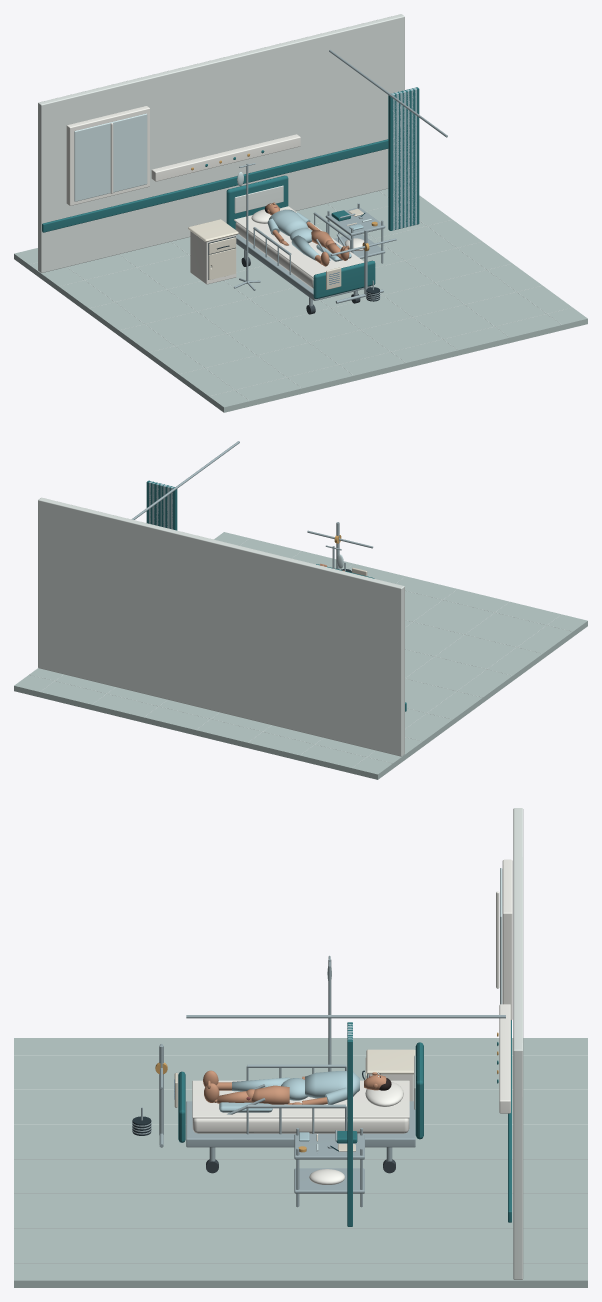
File: Ward.glb
3 renders of one model, top to bottom at view 1: azimuth 30°, elevation 25°; view 2: azimuth 150°, elevation 25°; view 3: azimuth 270°, elevation 25°, orthographic. The views are drawn at different scales.
Parts seen in each view (by area): view 1: Hospital floor, Head wall, Window glass, Wall handrail, Medical services rail, Window frame, Fitted sheet, Footboard, Headboard, Bedside cabinet, Bed chassis, Mattress (+6 smaller); view 2: Head wall, Hospital floor; view 3: Hospital floor, Head wall, Fitted sheet, Mattress, Bed chassis, Window frame, Trolley top, Medical services rail, Privacy curtain rail, Cabinet top, Trolley lower, Curtain pleat.014 (+4 smaller).
Boxes of the visible parts, bbox=[...] form: Hospital floor: bbox=[14, 188, 587, 412]; Head wall: bbox=[38, 14, 404, 272]; Window glass: bbox=[74, 113, 147, 201]; Wall handrail: bbox=[42, 139, 388, 232]; Medical services rail: bbox=[151, 134, 300, 181]; Window frame: bbox=[66, 106, 149, 205]; Fitted sheet: bbox=[234, 206, 364, 278]; Footboard: bbox=[313, 260, 375, 298]; Headboard: bbox=[226, 175, 288, 229]; Bedside cabinet: bbox=[190, 231, 236, 284]; Bed chassis: bbox=[236, 234, 371, 300]; Mattress: bbox=[235, 222, 313, 288]; Head wall: bbox=[38, 497, 404, 756]; Hospital floor: bbox=[14, 532, 587, 779]; Hospital floor: bbox=[14, 1038, 587, 1287]; Head wall: bbox=[513, 808, 523, 1279]; Fitted sheet: bbox=[192, 1080, 409, 1118]; Mattress: bbox=[192, 1118, 409, 1133]; Bed chassis: bbox=[186, 1101, 415, 1147]; Window frame: bbox=[502, 859, 512, 1020]; Trolley top: bbox=[294, 1134, 364, 1159]; Medical services rail: bbox=[499, 1004, 510, 1113]; Privacy curtain rail: bbox=[186, 1015, 505, 1018]; Cabinet top: bbox=[366, 1049, 415, 1074]; Trolley lower: bbox=[294, 1168, 364, 1193]; Curtain pleat.014: bbox=[347, 1039, 352, 1226].
Bounding box in the file's own units: 7 × 3.2 × 7.
